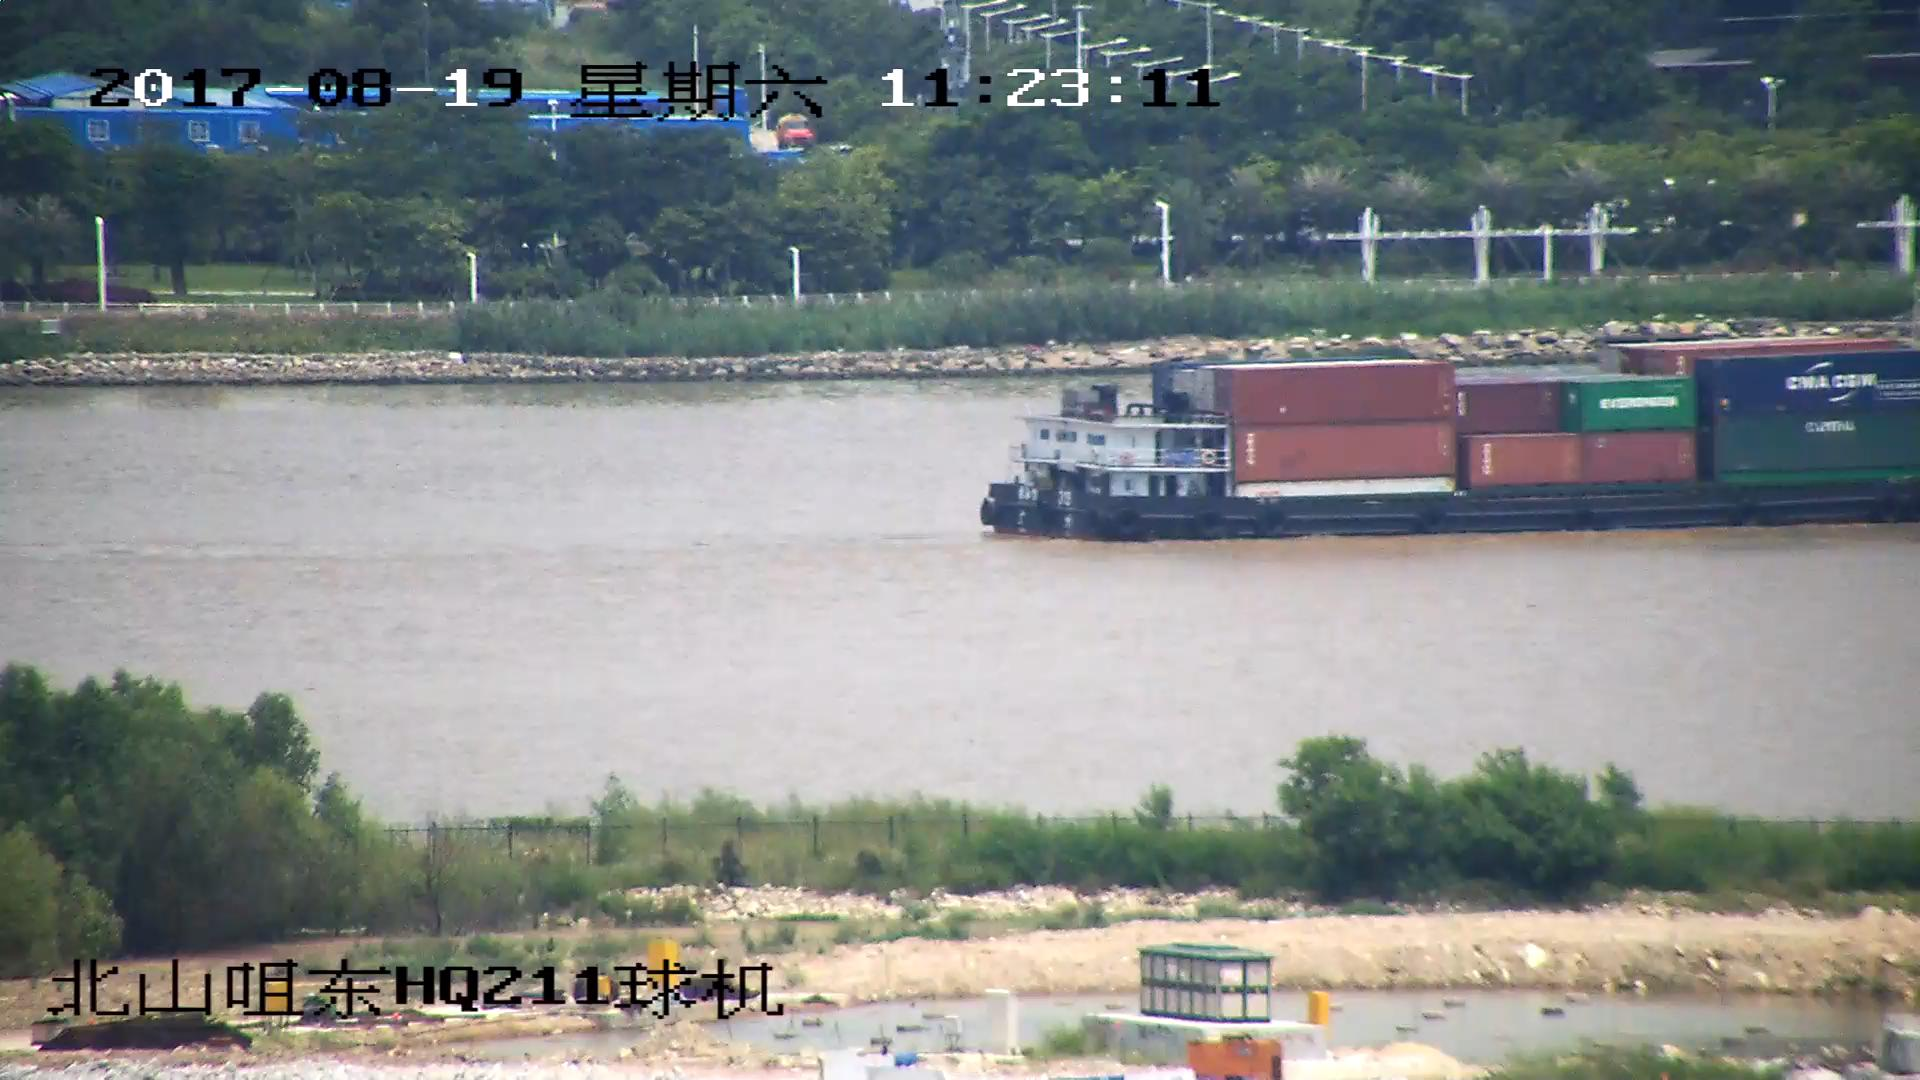container ship: (974, 333, 1920, 538)
